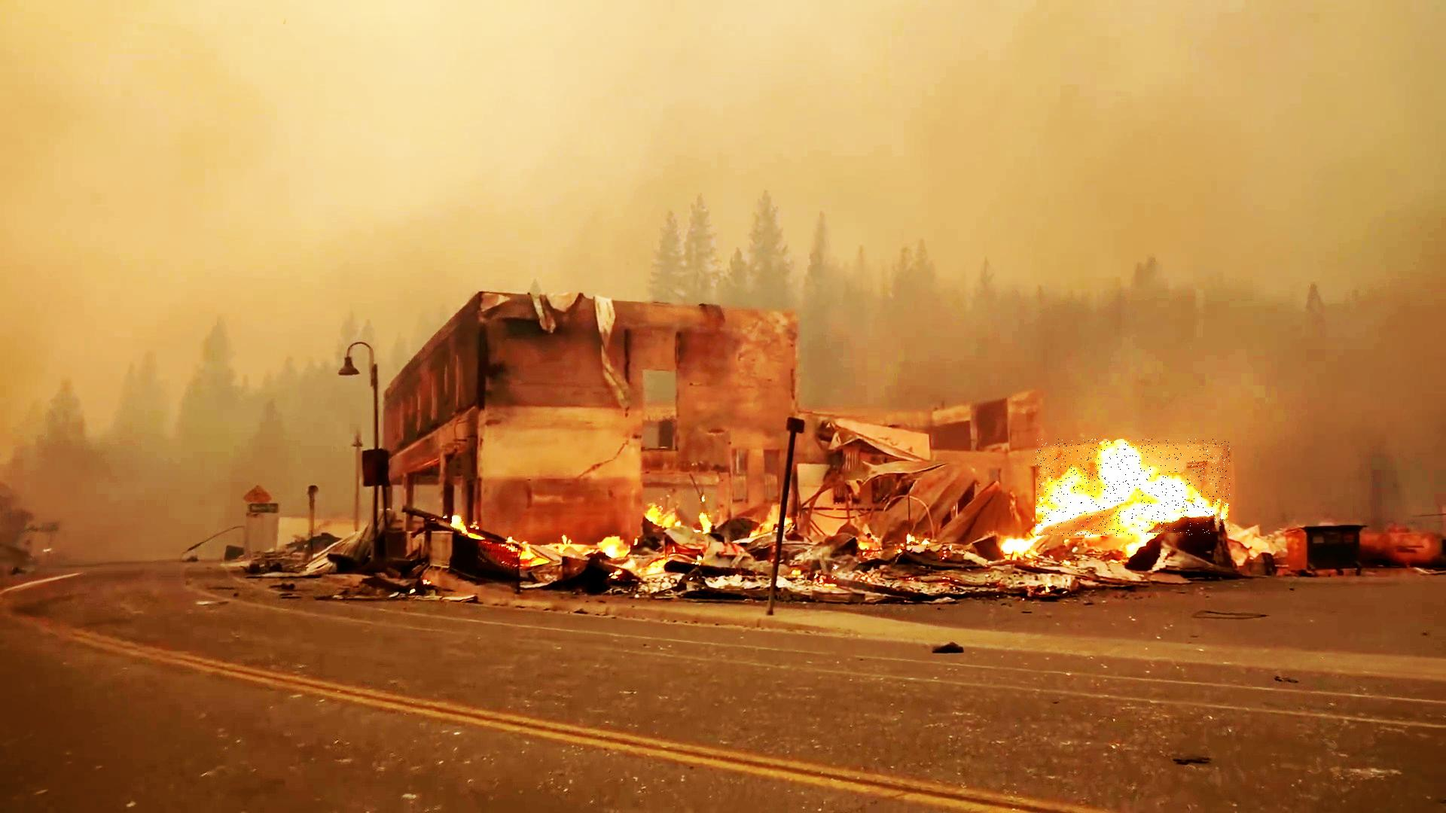fire: (1036, 439, 1230, 536)
